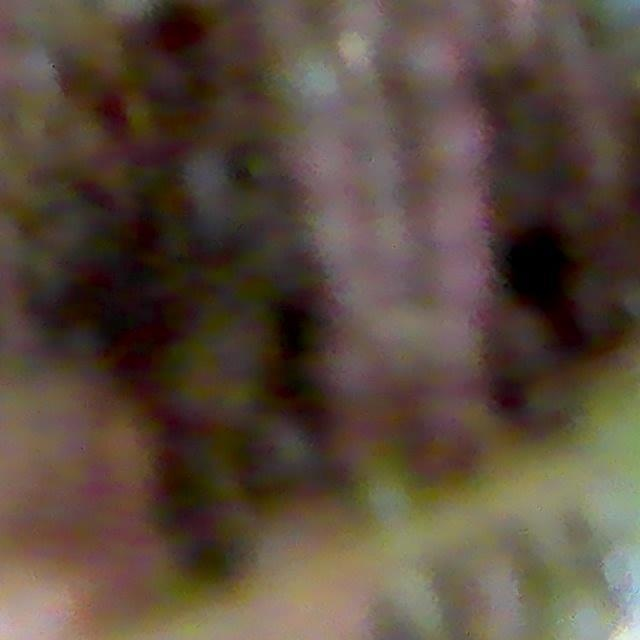SeaGrape: (387, 24, 465, 103), (287, 124, 361, 194), (426, 176, 493, 250), (424, 105, 483, 177), (296, 203, 363, 264), (435, 255, 500, 316)
